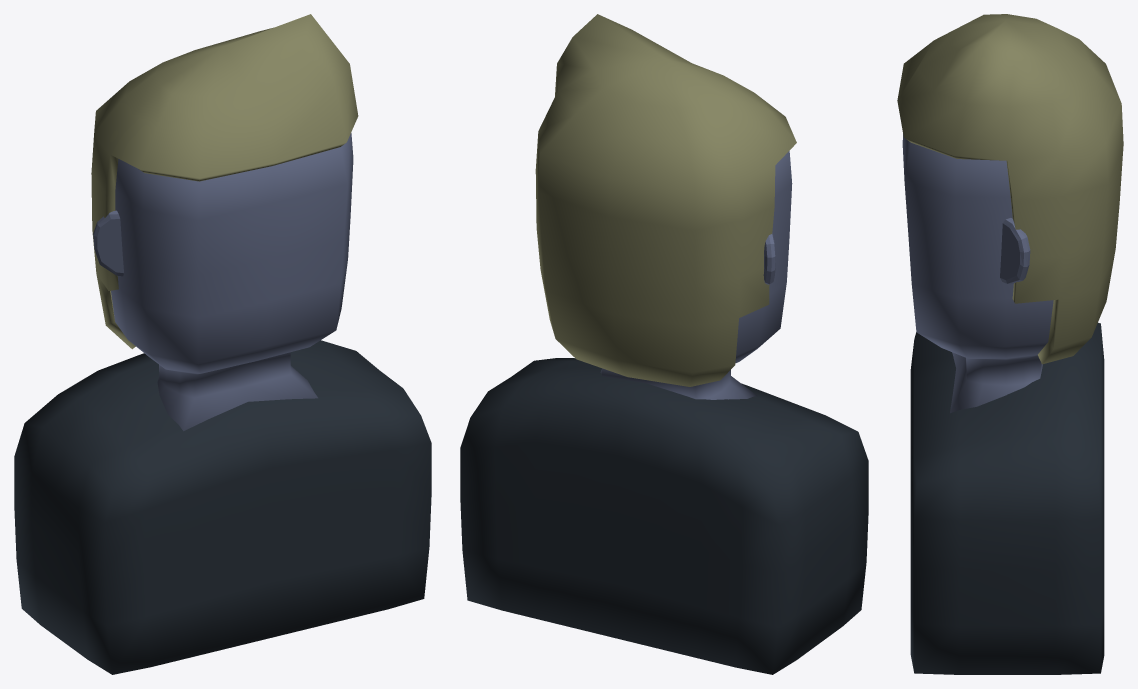
Rendered from convobot_boss.fbx.
The picture shows the model from 3 angles, left to right: view 1: azimuth 30°, elevation 25°; view 2: azimuth 150°, elevation 25°; view 3: azimuth 270°, elevation 25°; orthographic projection. The views are drawn at different scales.
Parts seen in each view (by area): view 1: body, head, hair, R_ear; view 2: body, hair, head; view 3: body, hair, head, L_ear.
Part boxes in pixels (x1,y1,x2,y2): body: [14, 340, 431, 674]; head: [111, 133, 353, 431]; hair: [91, 14, 358, 349]; R_ear: [93, 210, 123, 276]; body: [460, 358, 868, 674]; hair: [535, 14, 796, 386]; head: [600, 151, 792, 399]; body: [910, 322, 1104, 674]; hair: [897, 14, 1123, 364]; head: [902, 134, 1053, 413]; L_ear: [1000, 218, 1030, 284].
Bounding box in the file's own units: 8.08 × 13.26 × 4.57.
